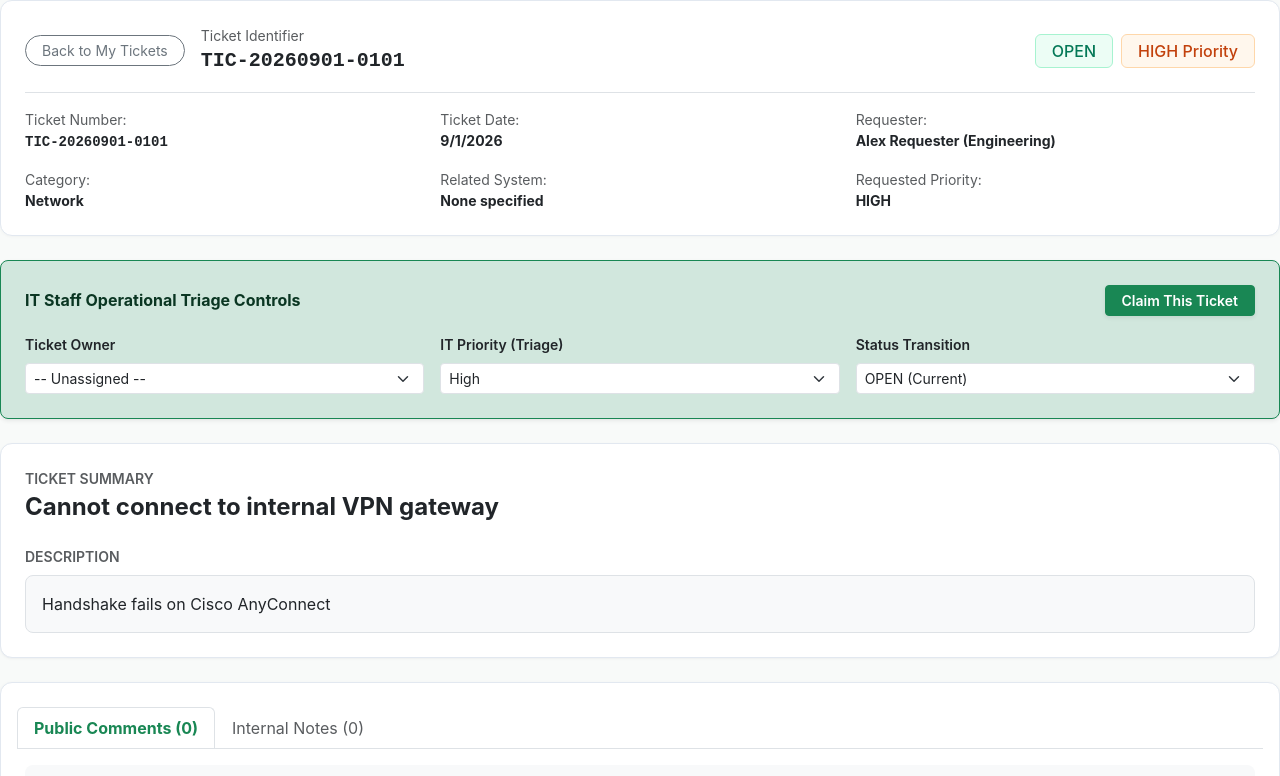
Scenario: Lab 3 — StaffTicketDetail Component Tests (AC-06 / AC-07 / UI-04 / UI-05) › UI-05: allows switching between Public Comments and Internal Notes tabs for IT Staff
Expected: the button with test id "tab-public-comments" is shown, [17,707,215,748]
# Switch to Internal Notes
Click the button with test id "tab-internal-notes" at (298,728), box [215,707,381,749]
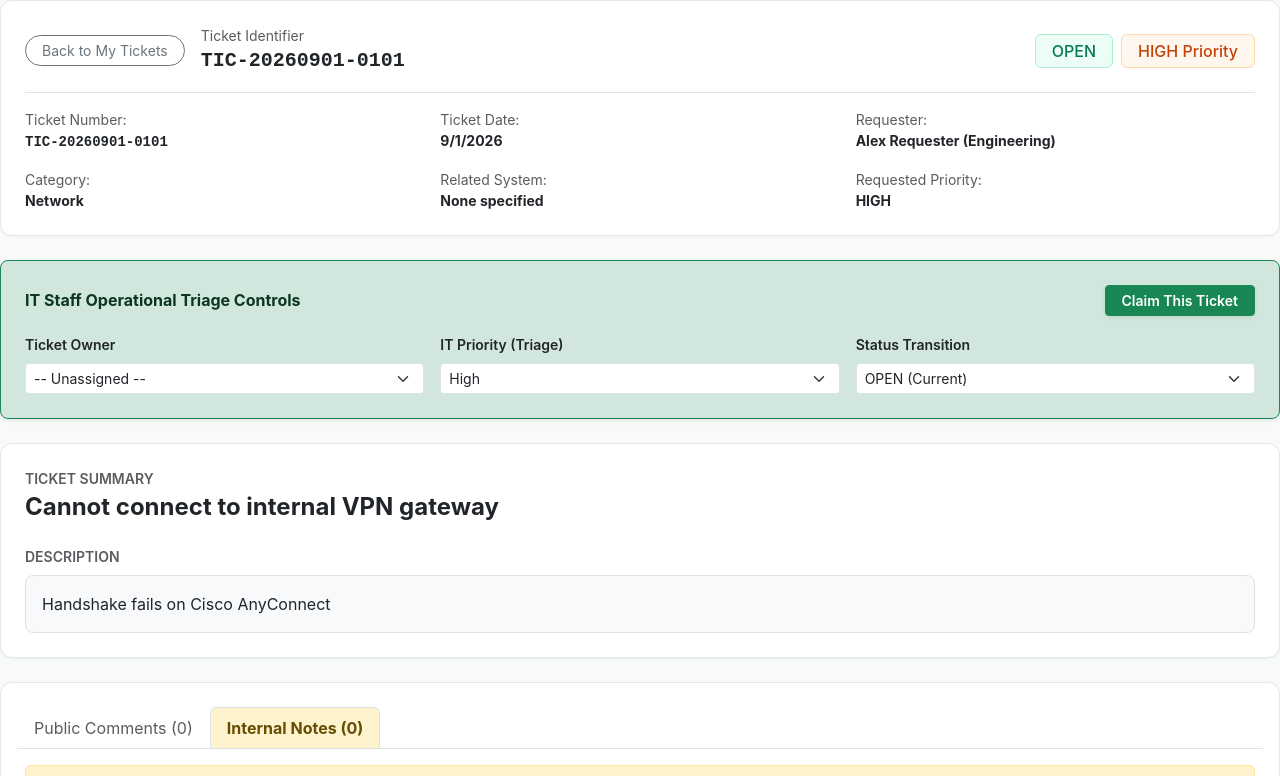
# Switch back to Public Comments
Click the button with test id "tab-public-comments" at (113,728), box [17,707,210,749]
(page scrolled)
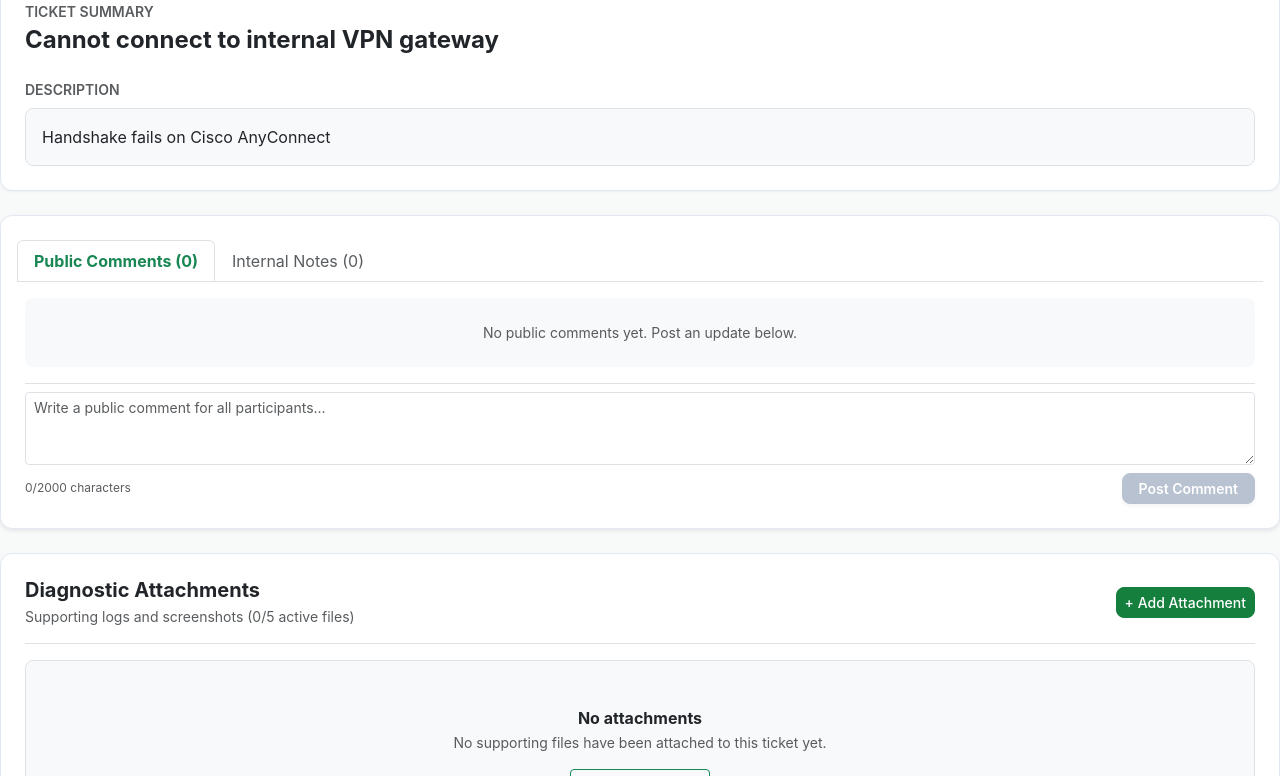
Now the element with test id "comments-panel" is shown, box [25,298,1255,504]
